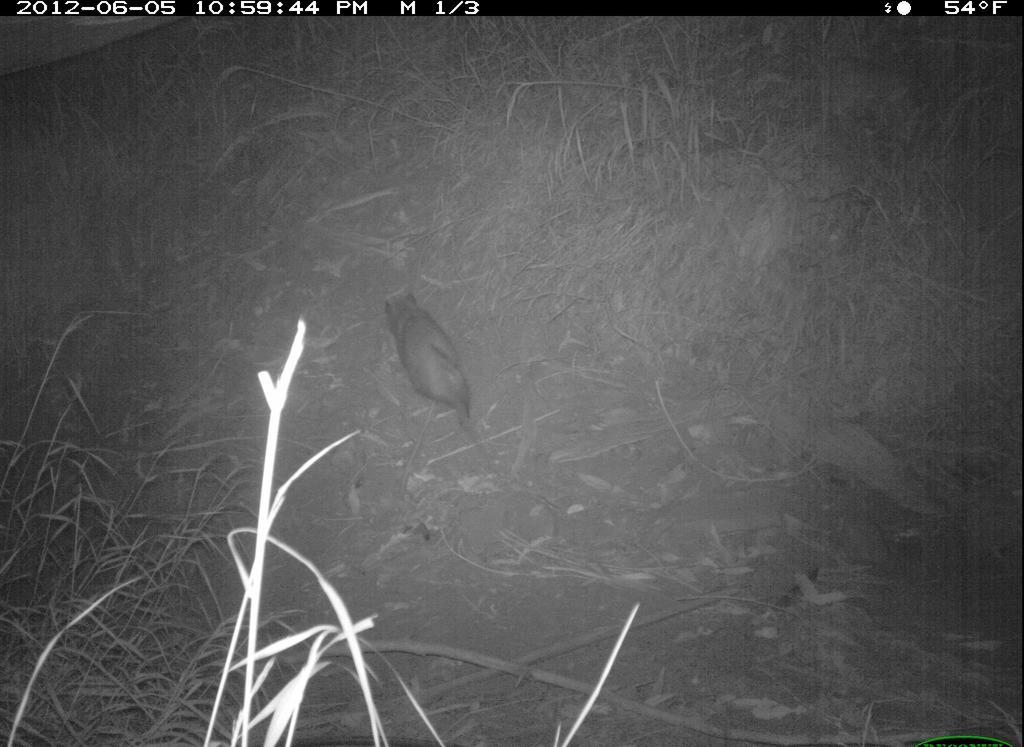opossum: (369, 279, 536, 492)
